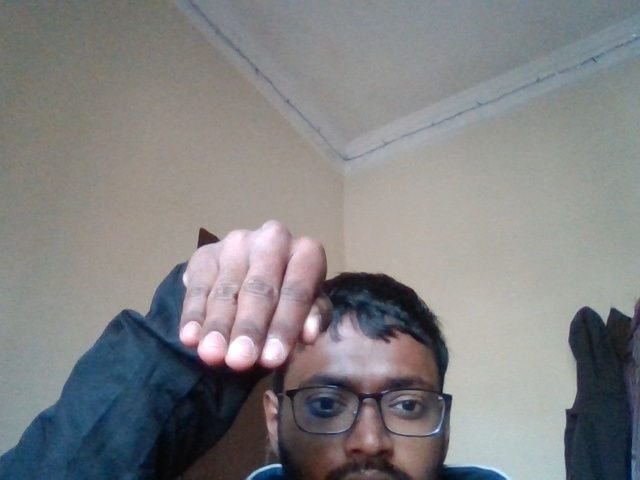morning: (179, 213, 335, 382)
